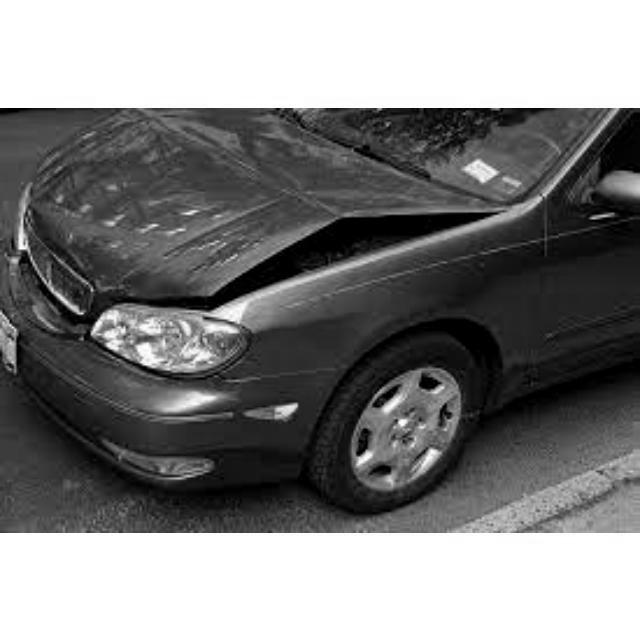bonnet-dent: (49, 112, 449, 300)
